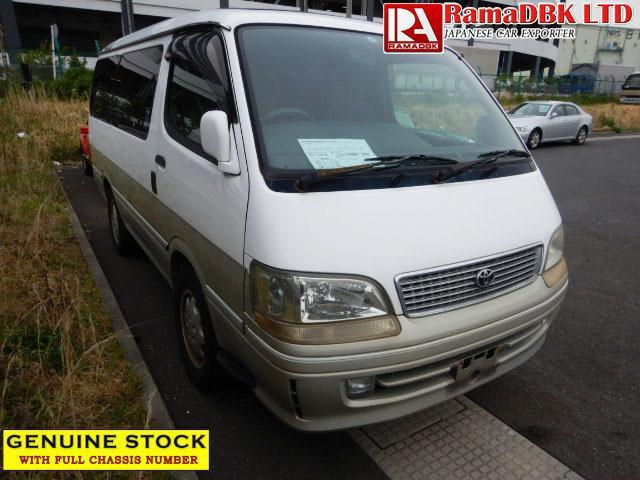van: (82, 14, 576, 432)
